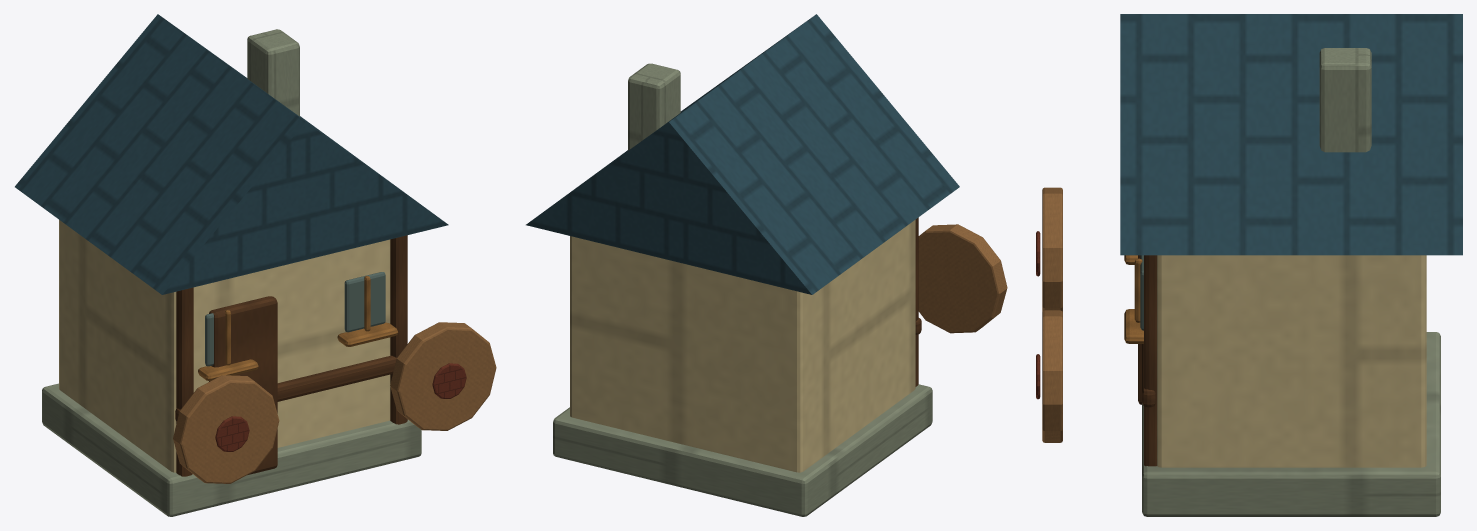
File: archery.glb
The picture shows the model from 3 angles, left to right: view 1: azimuth 30°, elevation 25°; view 2: azimuth 150°, elevation 25°; view 3: azimuth 270°, elevation 25°; orthographic projection. The views are drawn at different scales.
Visible parts, largest first — view 1: gable_roof, plaster, foundation, target.001, target, door, chimney, beam, timber_corner.001, timber_corner, window_inset.001, bullseye (+3 smaller); view 2: plaster, gable_roof, foundation, target, chimney, timber_corner; view 3: gable_roof, plaster, foundation, chimney, target.001, target, timber_corner.001, window_sill.001.
Part boxes in pixels (x1=…): gable_roof: x1=15, y1=14, x2=448, y2=294; plaster: x1=59, y1=220, x2=390, y2=472; foundation: x1=42, y1=383, x2=421, y2=516; target.001: x1=390, y1=322, x2=496, y2=430; target: x1=173, y1=375, x2=279, y2=483; door: x1=209, y1=296, x2=277, y2=474; chimney: x1=247, y1=29, x2=299, y2=116; beam: x1=175, y1=355, x2=396, y2=422; timber_corner.001: x1=390, y1=235, x2=407, y2=424; timber_corner: x1=176, y1=287, x2=193, y2=476; window_inset.001: x1=344, y1=272, x2=385, y2=332; bullseye: x1=215, y1=416, x2=249, y2=451; plaster: x1=570, y1=220, x2=915, y2=472; gable_roof: x1=526, y1=14, x2=959, y2=294; foundation: x1=553, y1=384, x2=932, y2=516; target: x1=918, y1=224, x2=1007, y2=333; chimney: x1=628, y1=63, x2=680, y2=150; timber_corner: x1=915, y1=217, x2=918, y2=386; gable_roof: x1=1120, y1=14, x2=1462, y2=255; plaster: x1=1157, y1=255, x2=1426, y2=467; foundation: x1=1142, y1=332, x2=1440, y2=516; chimney: x1=1319, y1=48, x2=1371, y2=152; target.001: x1=1042, y1=310, x2=1062, y2=442; target: x1=1042, y1=187, x2=1062, y2=311; timber_corner.001: x1=1144, y1=255, x2=1156, y2=466; window_sill.001: x1=1124, y1=309, x2=1143, y2=343.
Bounding box in the file's own units: 2.04 × 2.3 × 2.06.
Materials: 8 (7 with a texture image).
